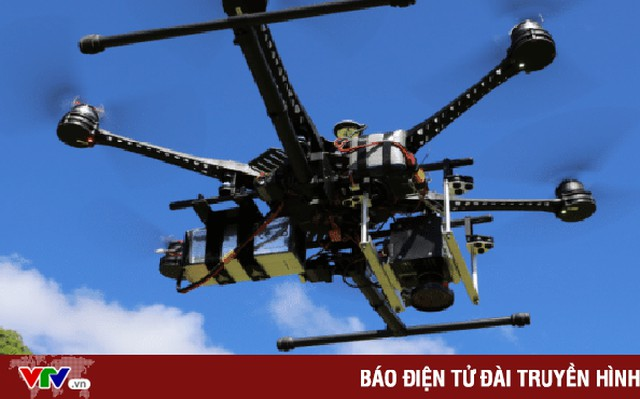maybay_khongnguoilai: (59, 1, 563, 339)
